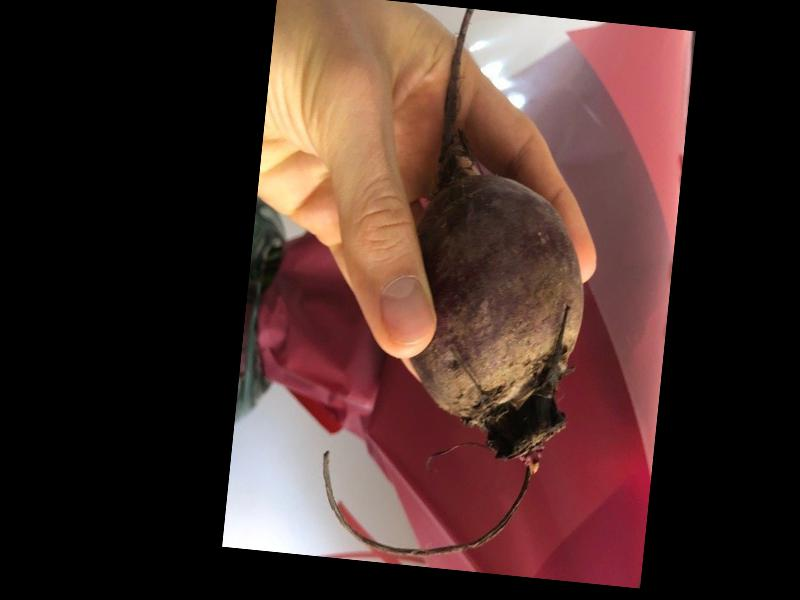Beet: (314, 0, 611, 571)
